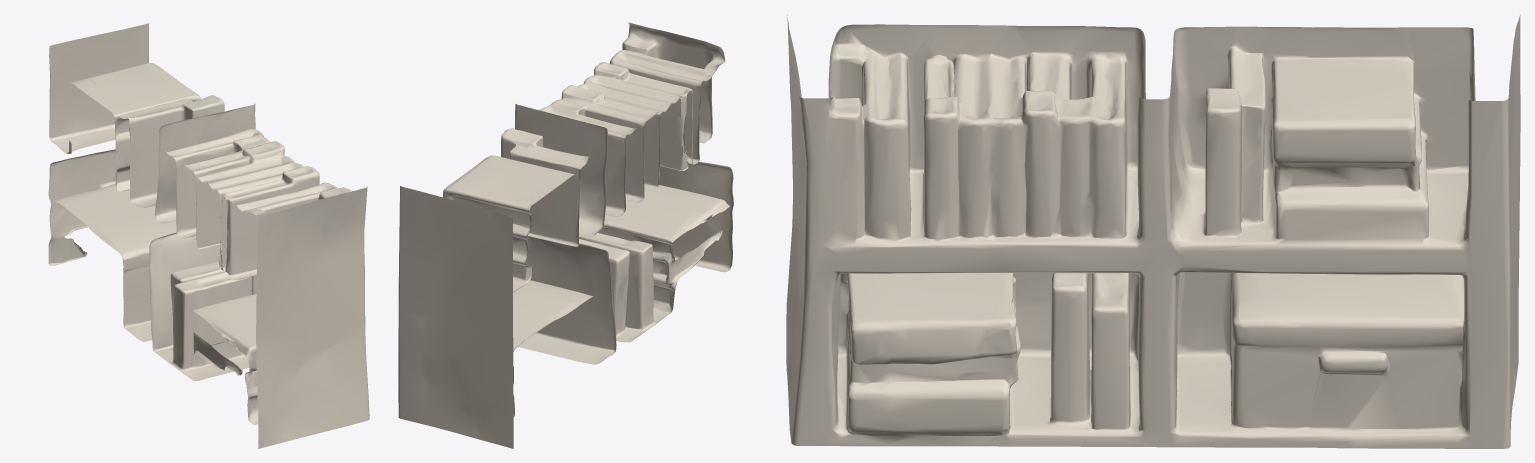
The model's file is study_shelf.glb.
3 renders of one model, left to right at view 1: azimuth 30°, elevation 25°; view 2: azimuth 150°, elevation 25°; view 3: azimuth 270°, elevation 25°, orthographic. The views are drawn at different scales.
Bounding box in the file's own units: 0.1591 × 0.291 × 0.557.
